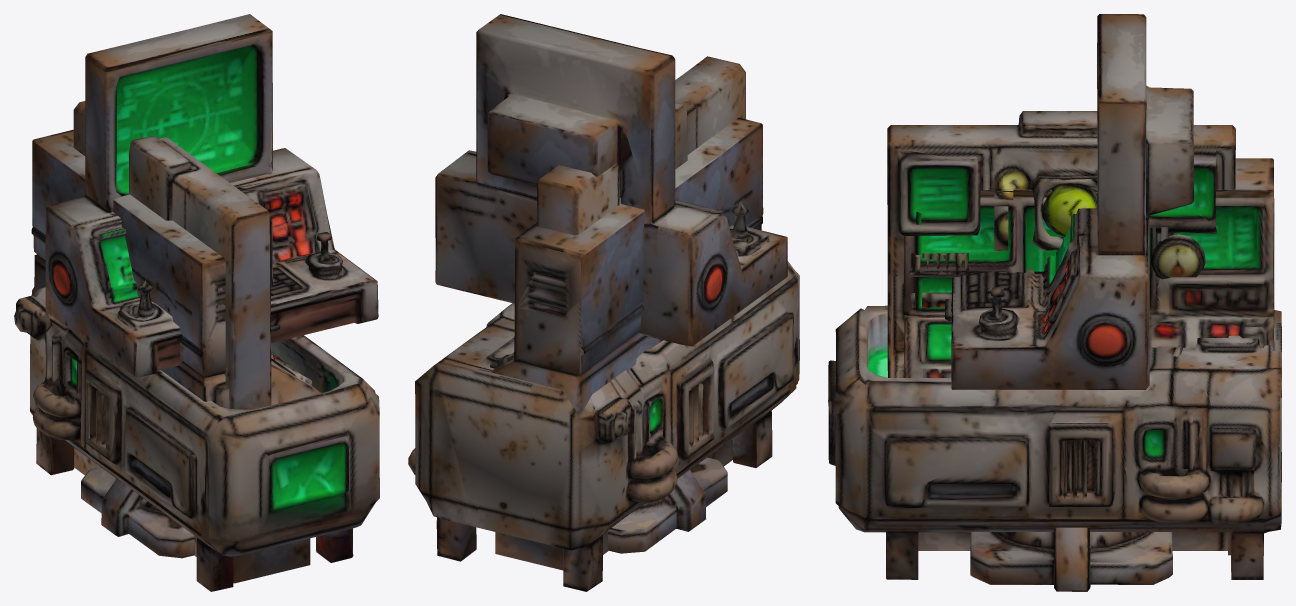
Rendered from control+panel+3d+model.fbx.
The picture shows the model from 3 angles, left to right: view 1: azimuth 30°, elevation 25°; view 2: azimuth 150°, elevation 25°; view 3: azimuth 270°, elevation 25°; orthographic projection. The views are drawn at different scales.
Parts seen in each view (by area): view 1: TERMINAL, capsula, panel control1, panel control2; view 2: capsula, TERMINAL, panel control2, panel control1; view 3: capsula, TERMINAL, panel control1, panel control2.
Boxes of the visible parts, x1,y1,x2,y2 form: TERMINAL: (45, 14, 378, 558); capsula: (14, 287, 379, 591); panel control1: (73, 101, 310, 583); panel control2: (31, 129, 321, 408); capsula: (408, 261, 799, 591); TERMINAL: (435, 14, 787, 553); panel control2: (490, 117, 763, 415); panel control1: (495, 56, 745, 570); capsula: (828, 305, 1281, 579); TERMINAL: (945, 14, 1193, 591); panel control1: (887, 111, 1235, 555); panel control2: (904, 158, 1274, 377).
Bounding box in the file's own units: 28.42 × 49.16 × 41.31.
